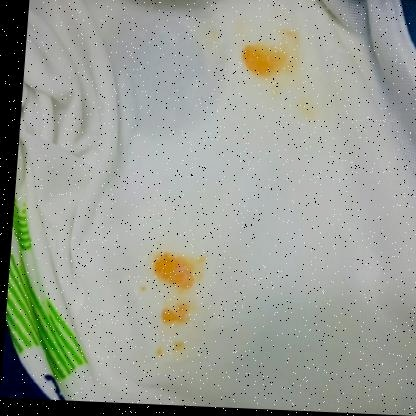kimchi: (242, 27, 304, 75), (150, 246, 207, 293), (275, 85, 316, 121), (154, 299, 199, 329), (150, 339, 191, 359), (136, 282, 147, 295)
